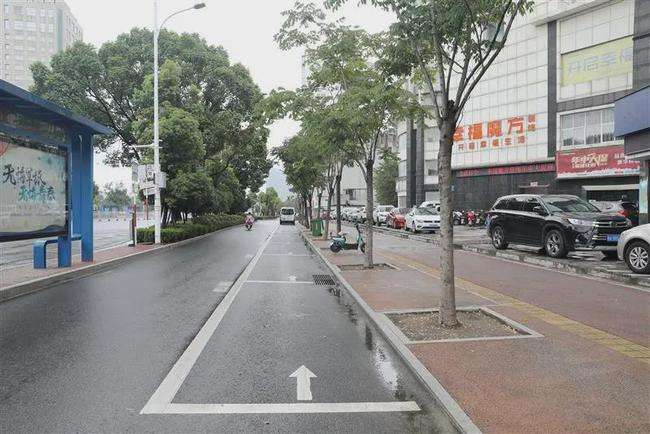slot_nocar: (123, 273, 428, 419), (230, 246, 346, 291), (247, 234, 328, 259), (265, 218, 314, 243)
